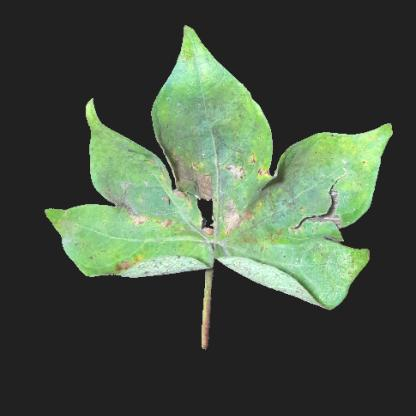curl_stage1: (320, 137, 388, 187), (181, 51, 215, 94)
healthy: (294, 247, 334, 293), (122, 227, 162, 256), (81, 228, 114, 258), (95, 129, 121, 164)
sooty: (173, 105, 252, 224), (272, 187, 334, 237), (101, 178, 144, 226)
